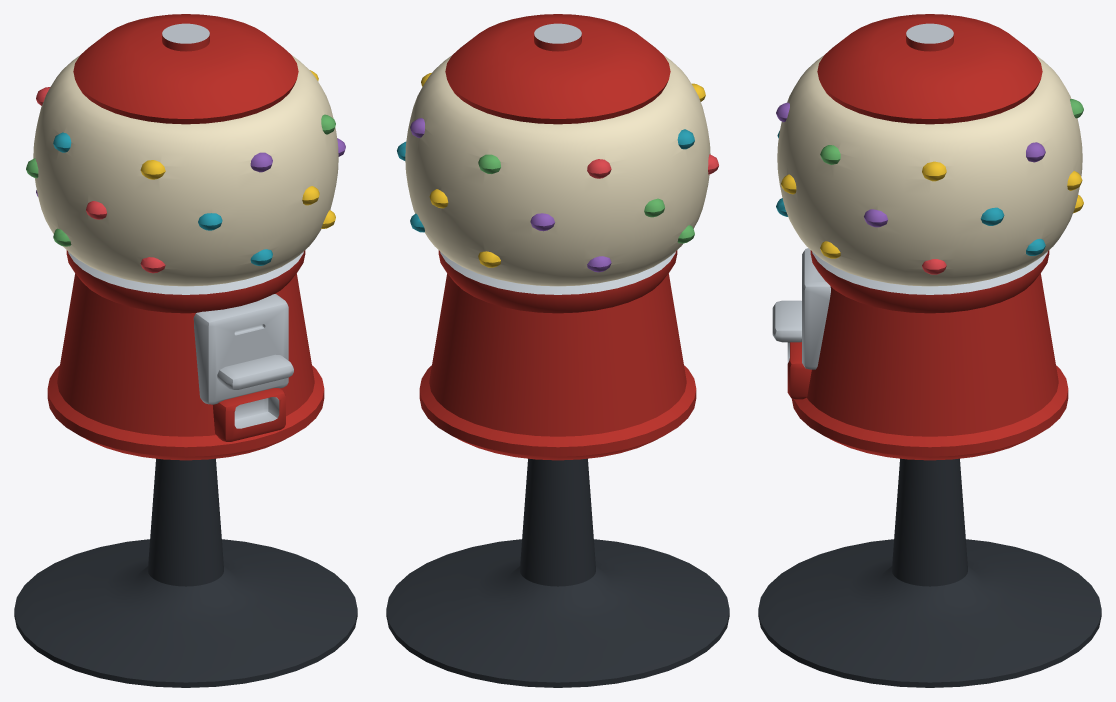
Rendered from NEW_RECOVERY_118_LOD1.fbx.
3 renders of one model, left to right at view 1: azimuth 30°, elevation 25°; view 2: azimuth 150°, elevation 25°; view 3: azimuth 270°, elevation 25°, orthographic.
Parts seen in each view (by area): view 1: Gumball_machine; view 2: Gumball_machine; view 3: Gumball_machine.
Boxes of the visible parts, x1=… form: Gumball_machine: x1=14, y1=14, x2=357, y2=687; Gumball_machine: x1=386, y1=14, x2=729, y2=687; Gumball_machine: x1=758, y1=14, x2=1101, y2=687.
Size of the model in its own units: 48.6 by 48.6 by 91.55.
